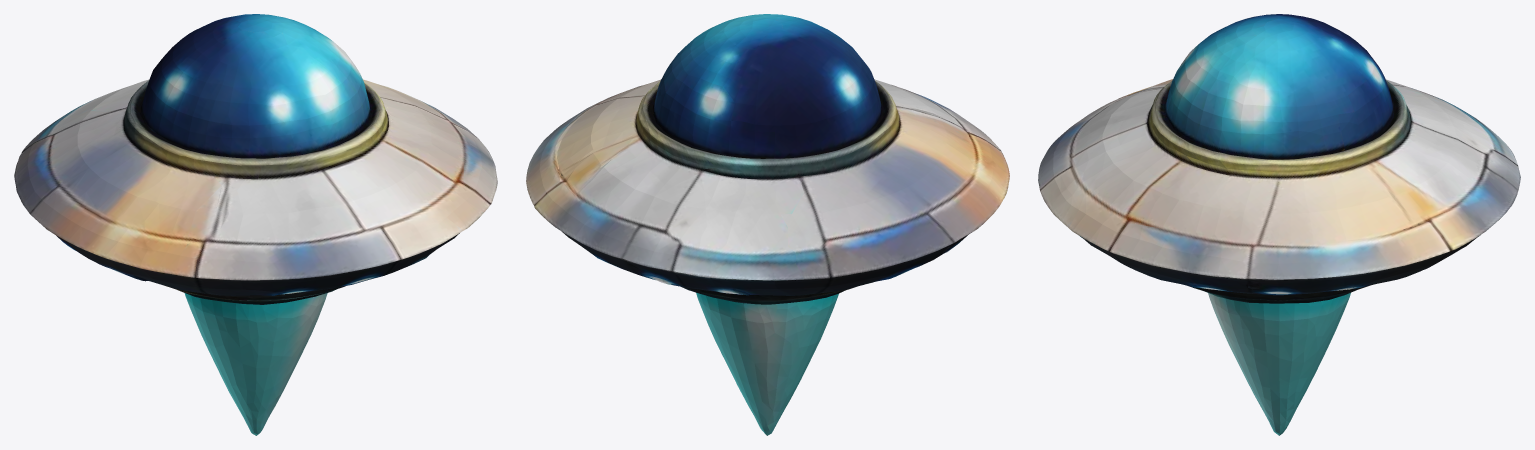
The model's file is nova.glb.
3 renders of one model, left to right at view 1: azimuth 30°, elevation 25°; view 2: azimuth 150°, elevation 25°; view 3: azimuth 270°, elevation 25°, orthographic.
Parts seen in each view (by area): view 1: helper; view 2: helper; view 3: helper.
Boxes of the visible parts, <box> form: helper: <box>14,14,497,435</box>; helper: <box>526,14,1009,435</box>; helper: <box>1038,14,1520,435</box>.
Bounding box in the file's own units: 1.07 × 1 × 1.07.
Materials: 1 (1 with a texture image).
